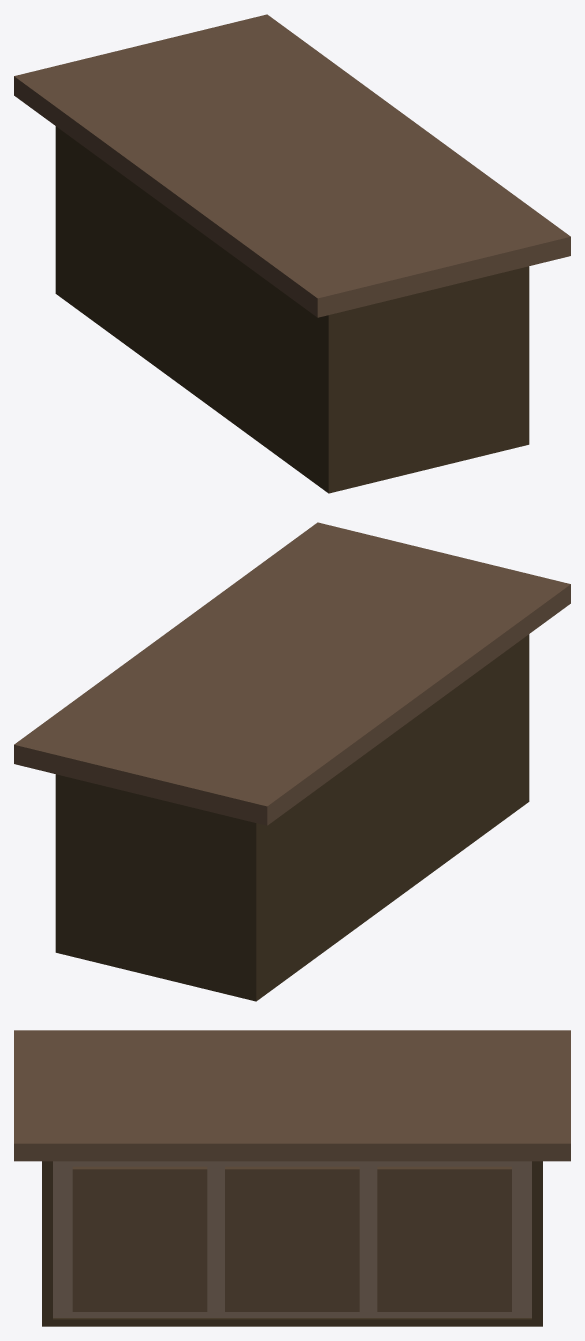
Rendered from Workbench.fbx.
3 renders of one model, top to bottom at view 1: azimuth 30°, elevation 25°; view 2: azimuth 150°, elevation 25°; view 3: azimuth 270°, elevation 25°, orthographic. The views are drawn at different scales.
Visible parts, largest first — view 1: Plane.001, Plane; view 2: Plane.001, Plane; view 3: Plane.001, Plane.002, Plane.003, Plane.
Part boxes in pixels (x1,y1,x2,y2): Plane.001: (14, 14, 570, 317); Plane: (55, 126, 529, 493); Plane.001: (14, 522, 570, 825); Plane: (55, 634, 529, 1001); Plane.001: (14, 1030, 570, 1161); Plane.002: (72, 1166, 511, 1311); Plane.003: (53, 1161, 531, 1317); Plane: (42, 1161, 542, 1326).
Size of the model in its own units: 144 by 116 by 300.
